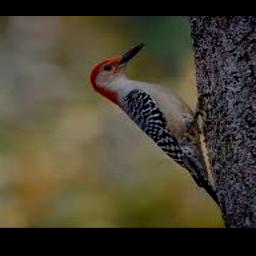Woodpecker: (89, 43, 221, 206)
